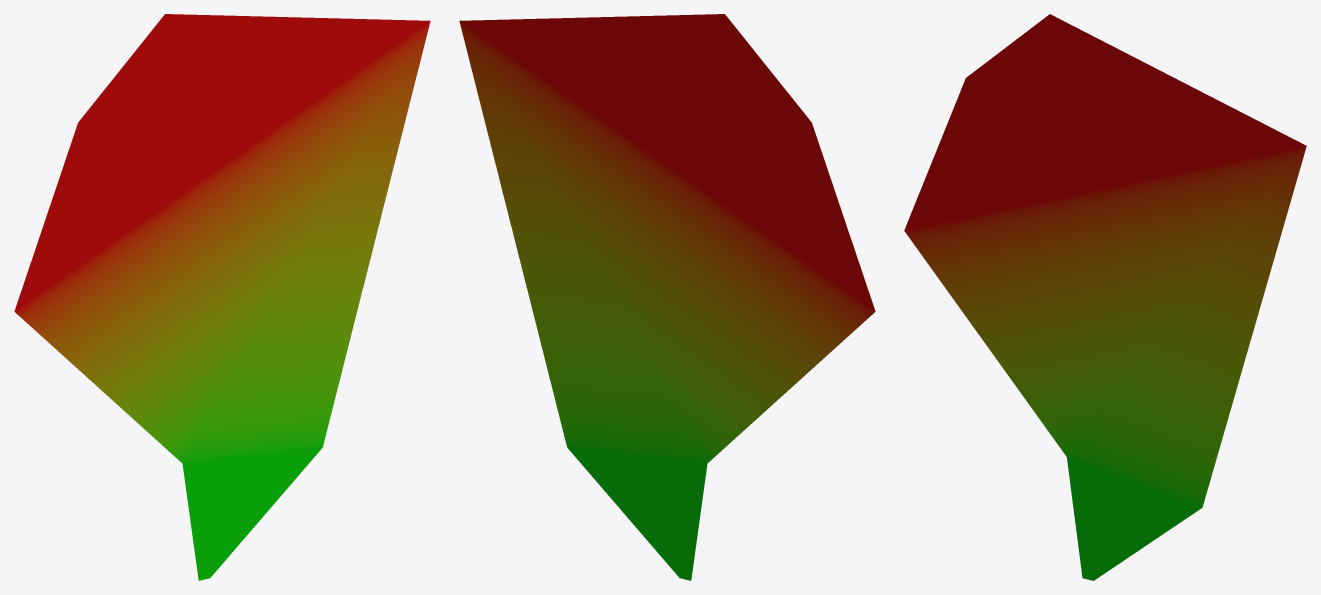
Rendered from Sea Wheatgrass_LOD3_Var3_ui2oagjia.fbx.
The picture shows the model from 3 angles, left to right: view 1: azimuth 30°, elevation 25°; view 2: azimuth 150°, elevation 25°; view 3: azimuth 330°, elevation 25°; orthographic projection. The views are drawn at different scales.
Parts seen in each view (by area): view 1: _1cvt_Var3_LOD3; view 2: _1cvt_Var3_LOD3; view 3: _1cvt_Var3_LOD3.
Part boxes in pixels (box(x1,y1,x2,y2)): _1cvt_Var3_LOD3: box(14, 14, 430, 580); _1cvt_Var3_LOD3: box(459, 14, 875, 580); _1cvt_Var3_LOD3: box(904, 14, 1306, 580).
Bounding box in the file's own units: 52.07 × 68.75 × 3.01e-06.
